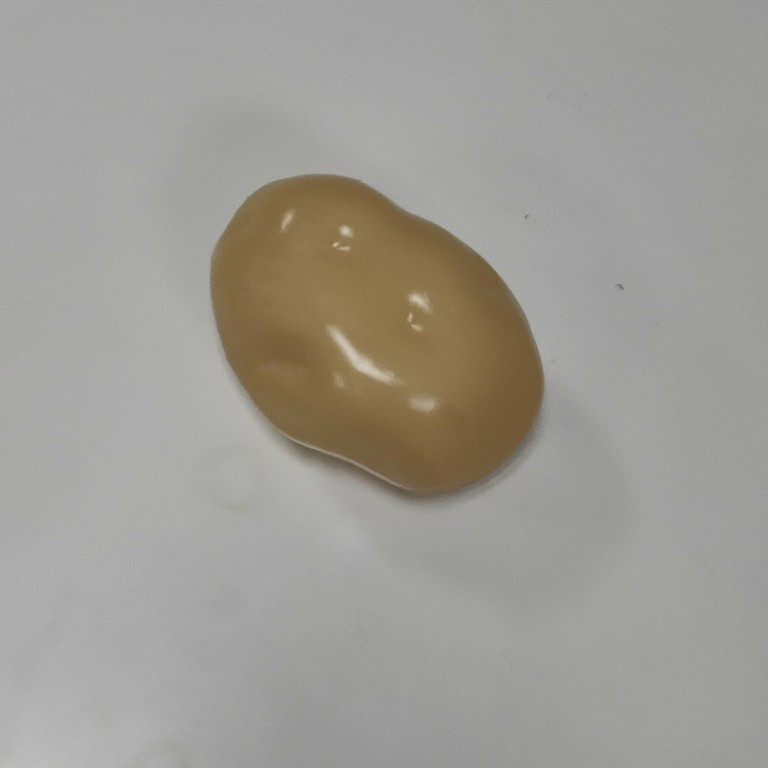fruit_potato: (206, 171, 547, 497)
